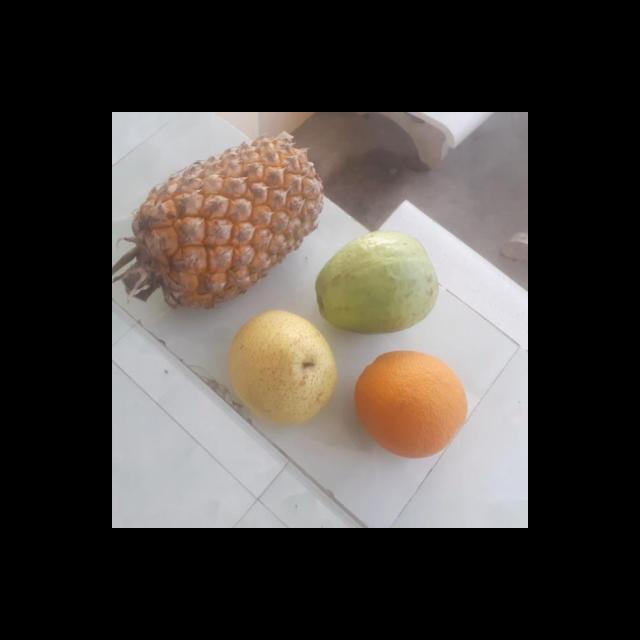guava: (311, 234, 436, 332)
orange: (351, 351, 468, 458)
pear: (220, 311, 338, 423)
pineapple: (126, 142, 316, 311)
